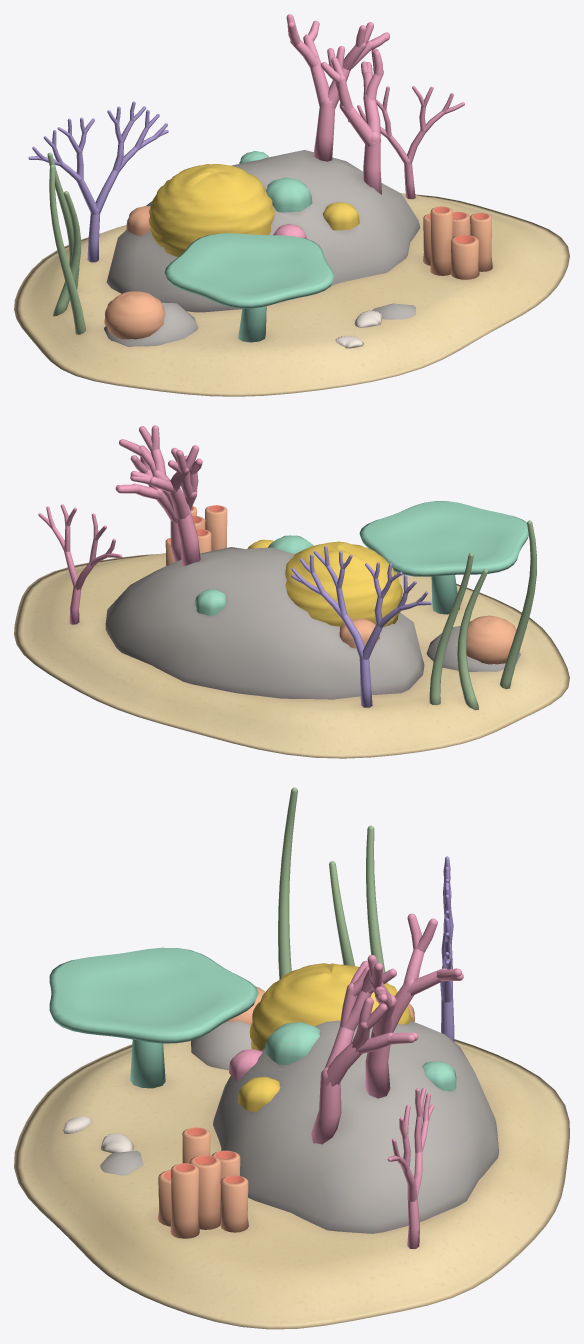
Rendered from coral-reef.obj.
3 views of the same model, one above another, from view 1: azimuth 30°, elevation 25°; view 2: azimuth 150°, elevation 25°; view 3: azimuth 270°, elevation 25° (orthographic). The views are drawn at different scales.
Parts seen in each view (by area): view 1: coral-reef_body; view 2: coral-reef_body; view 3: coral-reef_body.
Boxes of the visible parts, <box> form: coral-reef_body: <box>14,14,569,396</box>; coral-reef_body: <box>14,425,569,758</box>; coral-reef_body: <box>14,787,569,1329</box>.
Bounding box in the file's own units: 0.6448 × 0.2726 × 0.4829.
Materials: 1 (1 with a texture image).
